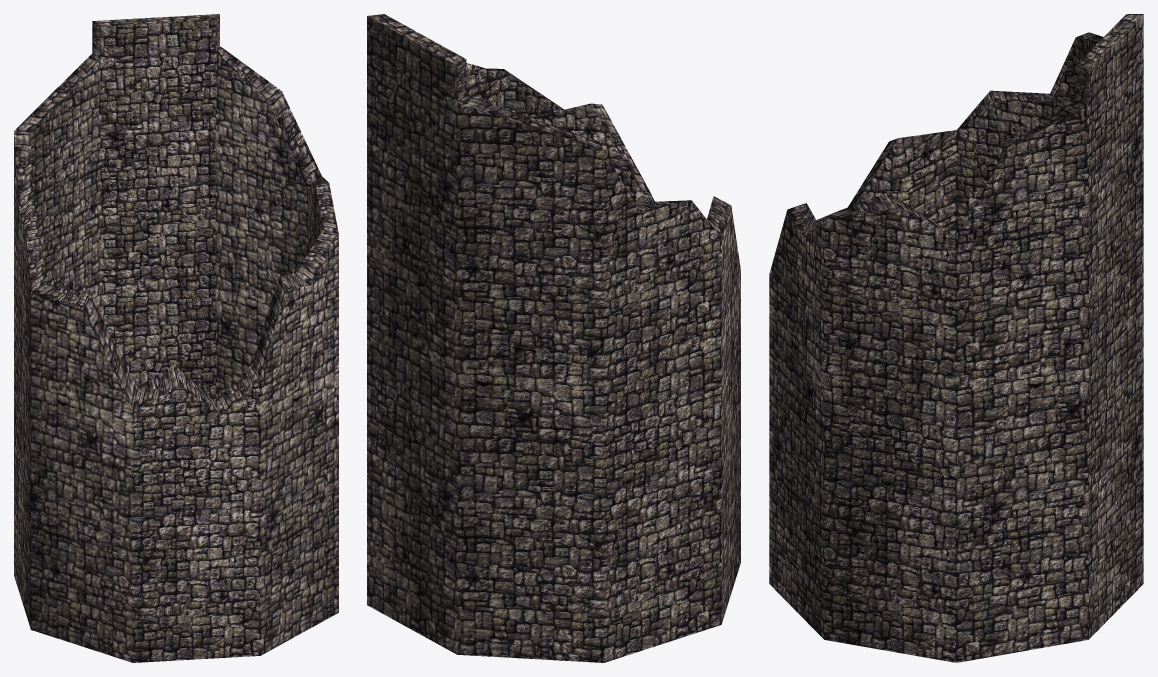
The model's file is pir_m_bld_frt_towerCrumbling_short.fbx.
The picture shows the model from 3 angles, left to right: view 1: azimuth 30°, elevation 25°; view 2: azimuth 150°, elevation 25°; view 3: azimuth 270°, elevation 25°; orthographic projection. The views are drawn at different scales.
Visible parts, largest first — view 1: base, top1; view 2: base, top1; view 3: base, top1.
Part boxes in pixels (left/top/right/bottom): base: left=14, top=14, right=338, bottom=662; top1: left=14, top=14, right=338, bottom=415; base: left=367, top=16, right=740, bottom=662; top1: left=367, top=14, right=731, bottom=237; base: left=769, top=14, right=1143, bottom=662; top1: left=787, top=14, right=1142, bottom=238.
Size of the model in its own units: 5000 by 8400 by 5000.
Materials: 1 (1 with a texture image).
